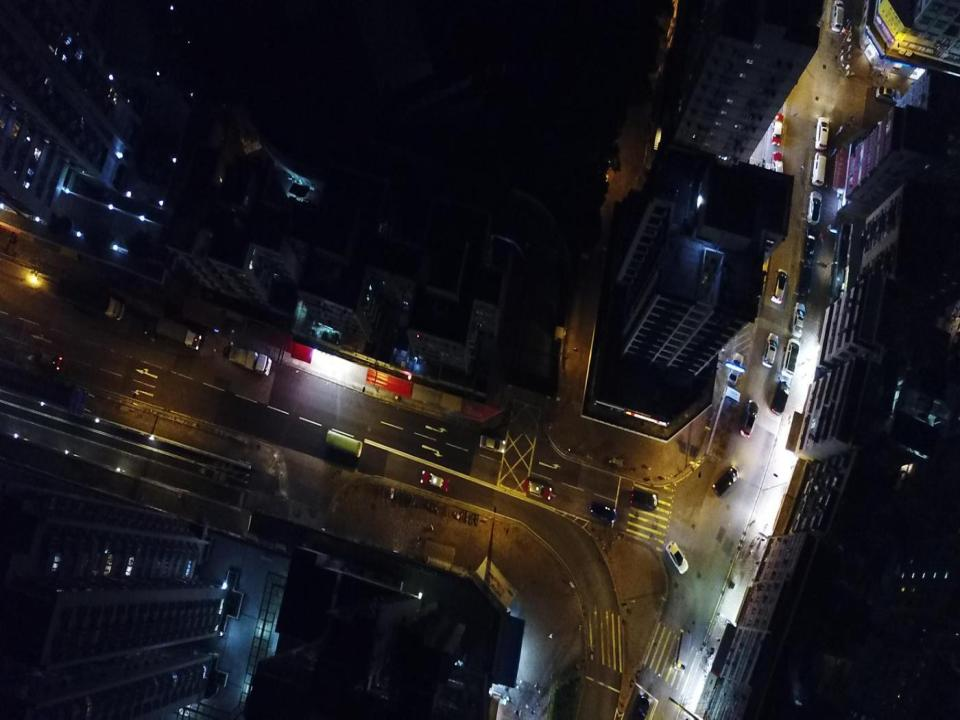bus: (325, 429, 363, 458), (672, 630, 693, 672)
car: (712, 465, 739, 497), (665, 540, 689, 575), (740, 398, 759, 439), (781, 338, 800, 379), (770, 379, 790, 416), (770, 267, 789, 304), (522, 478, 552, 501), (420, 470, 450, 492), (589, 500, 616, 524), (629, 489, 658, 511), (798, 259, 814, 298), (726, 352, 744, 386), (762, 333, 779, 368), (36, 350, 63, 371), (479, 434, 507, 454), (814, 117, 830, 151), (807, 190, 822, 226), (802, 226, 818, 258), (875, 86, 901, 105), (792, 303, 806, 337), (770, 112, 784, 146), (632, 695, 650, 719), (831, 0, 844, 32), (771, 151, 784, 181)
truck: (60, 278, 126, 320), (706, 385, 740, 462), (156, 318, 202, 352), (228, 346, 272, 376)
van: (810, 151, 827, 186)
